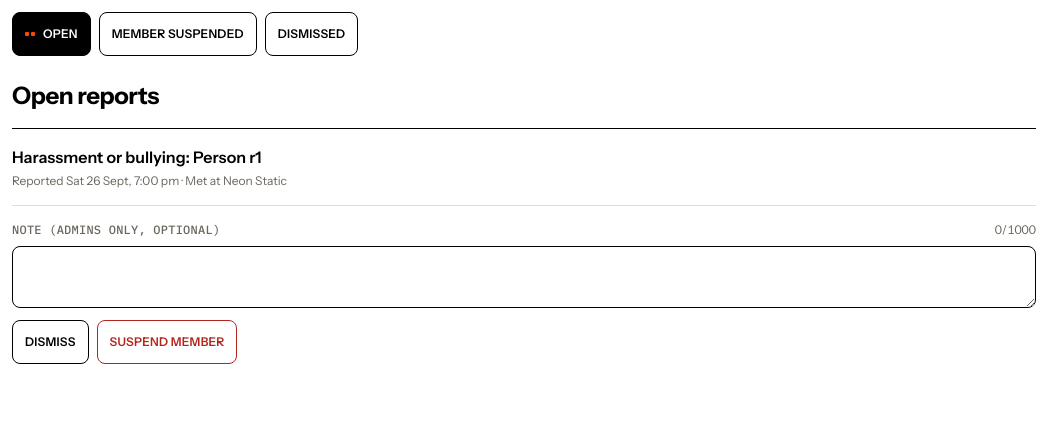
Test case: Admin: member reports › other failures are shown on the report and it stays
The width and height of the screenshot is (1048, 421).
Expected: the heading "Harassment or bullying: Person r1" is shown, x1=12 y1=147 x2=262 y2=167
Click the button "Dismiss". click: (50, 342)
box: x1=12 y1=320 x2=88 y2=364
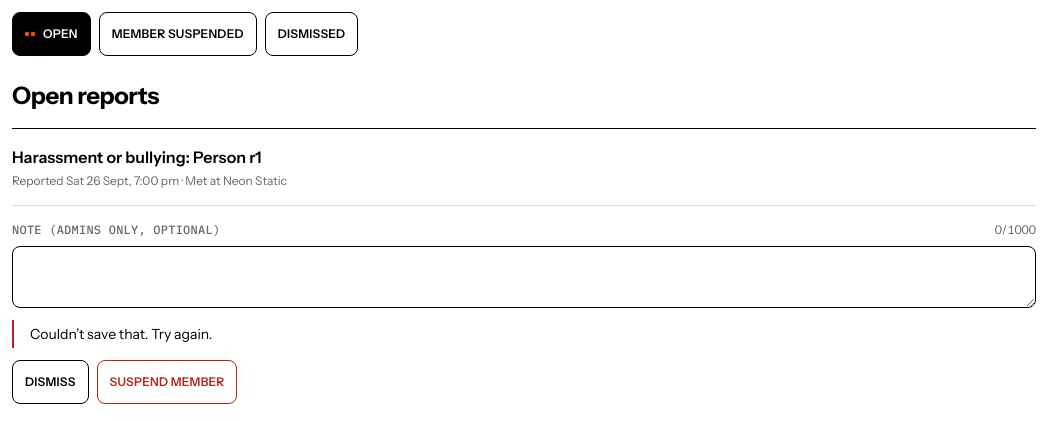
Expected: the heading "Harassment or bullying: Person r1" is shown, x1=12 y1=147 x2=262 y2=167
Expected: the message reads "Couldn’t save that. Try again.", x1=30 y1=325 x2=212 y2=343
